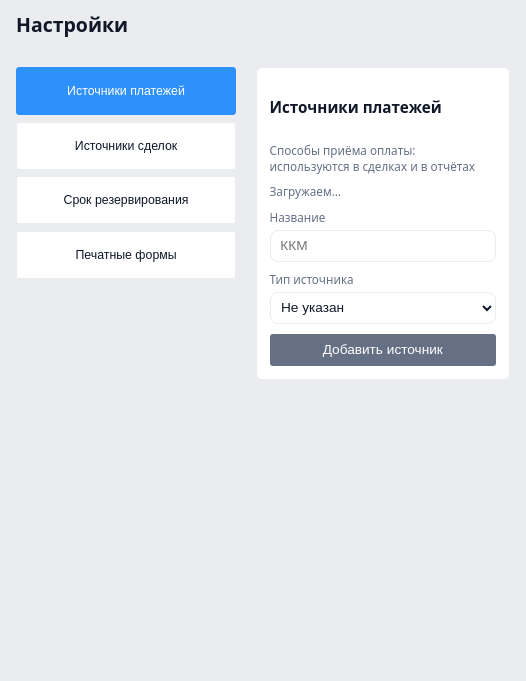
it: печатные формы в настройках › блок реквизитов стоит у каждого склада, а не один на компанию
Click the button "Печатные формы": (126, 255) x1=16 y1=231 x2=236 y2=279
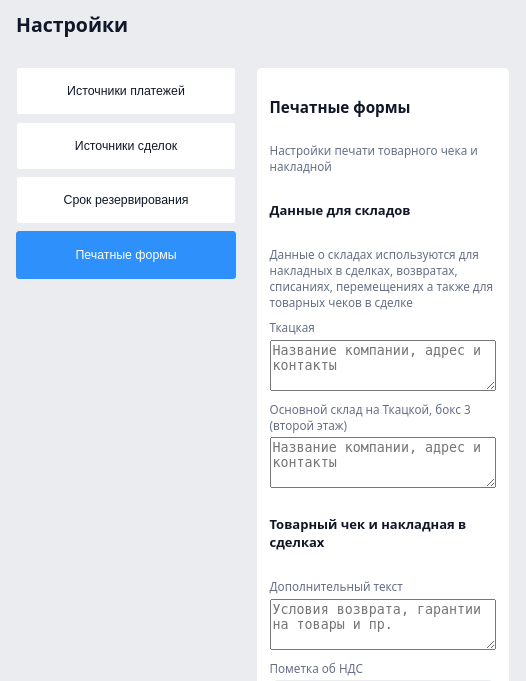
Expected: the text box named "Реквизиты склада: Ткацкая" is shown, x1=270 y1=340 x2=496 y2=391
Expected: the text box named "Реквизиты склада: Основной склад на Ткацкой, бокс 3 (второй этаж)" is shown, x1=270 y1=437 x2=496 y2=488
Expected: the text "Данные о складах используются для накладных" is shown, x1=270 y1=246 x2=493 y2=310
